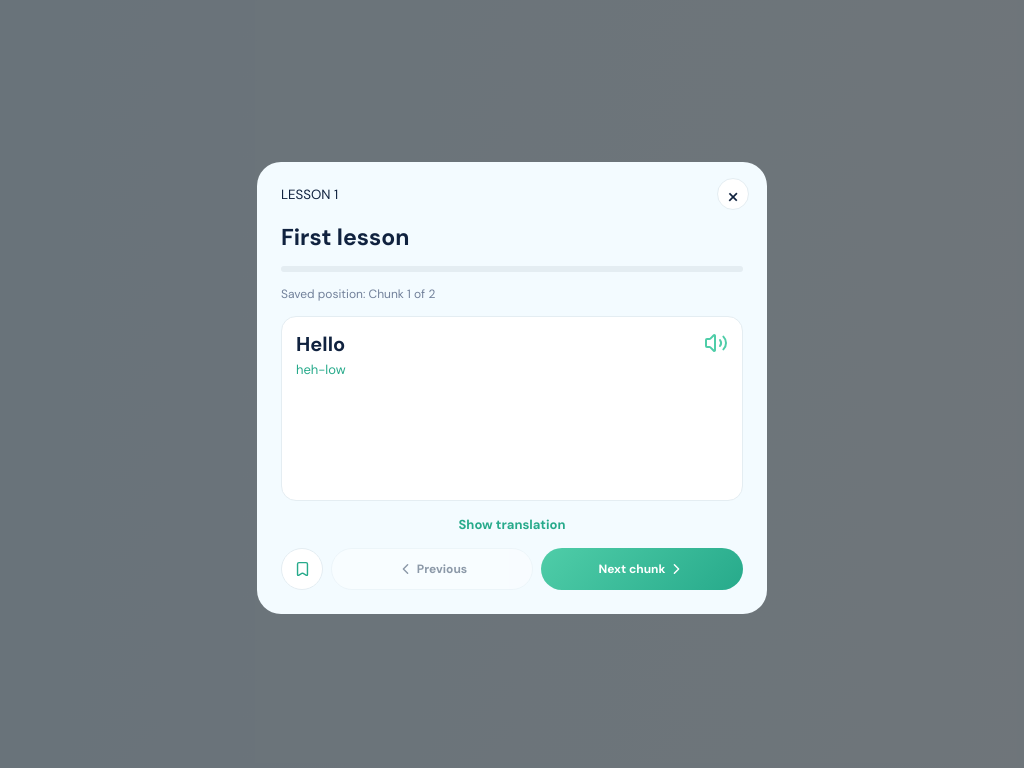
Test: LingoFlow app shell › saves the current chunk before advancing to the next one
This screenshot has width=1024, height=768.
Click the button "Next chunk" at [642, 569], box [541,548,743,590]
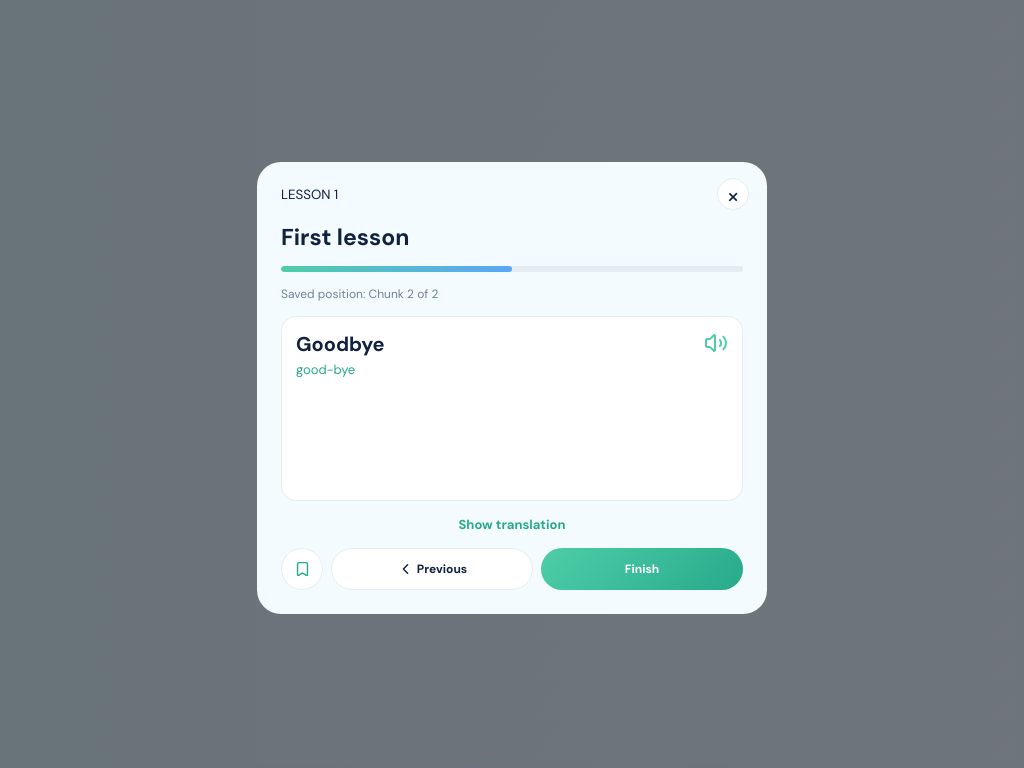
Expected: the text "Goodbye" is shown, [296,331,384,357]
